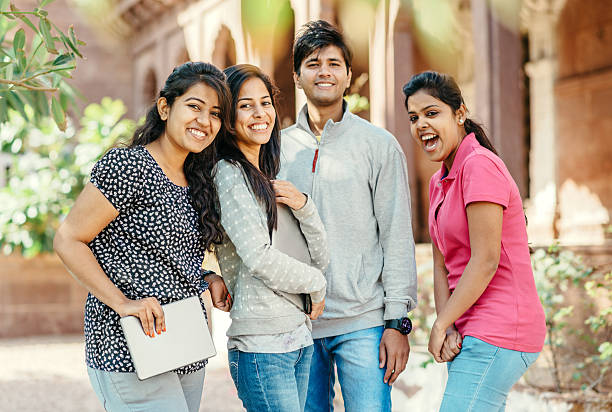men: (289, 31, 357, 111)
women: (396, 67, 477, 169), (157, 60, 225, 155), (229, 53, 281, 168)
